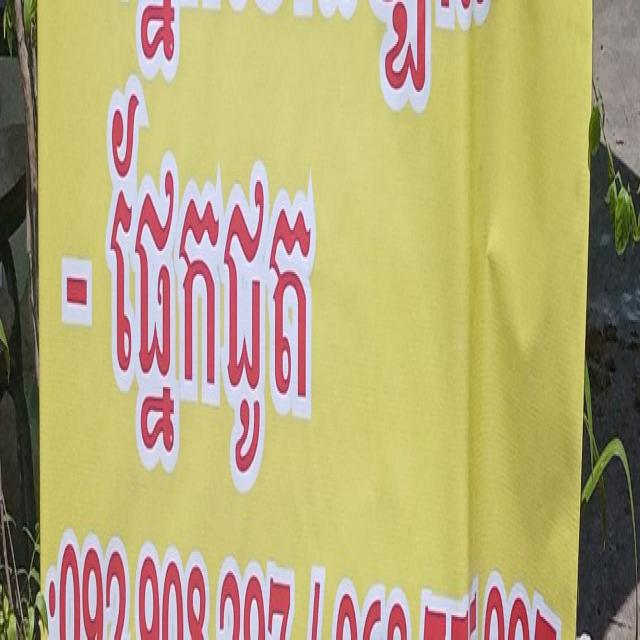Yolov11_80vkh: (94, 77, 340, 529)
